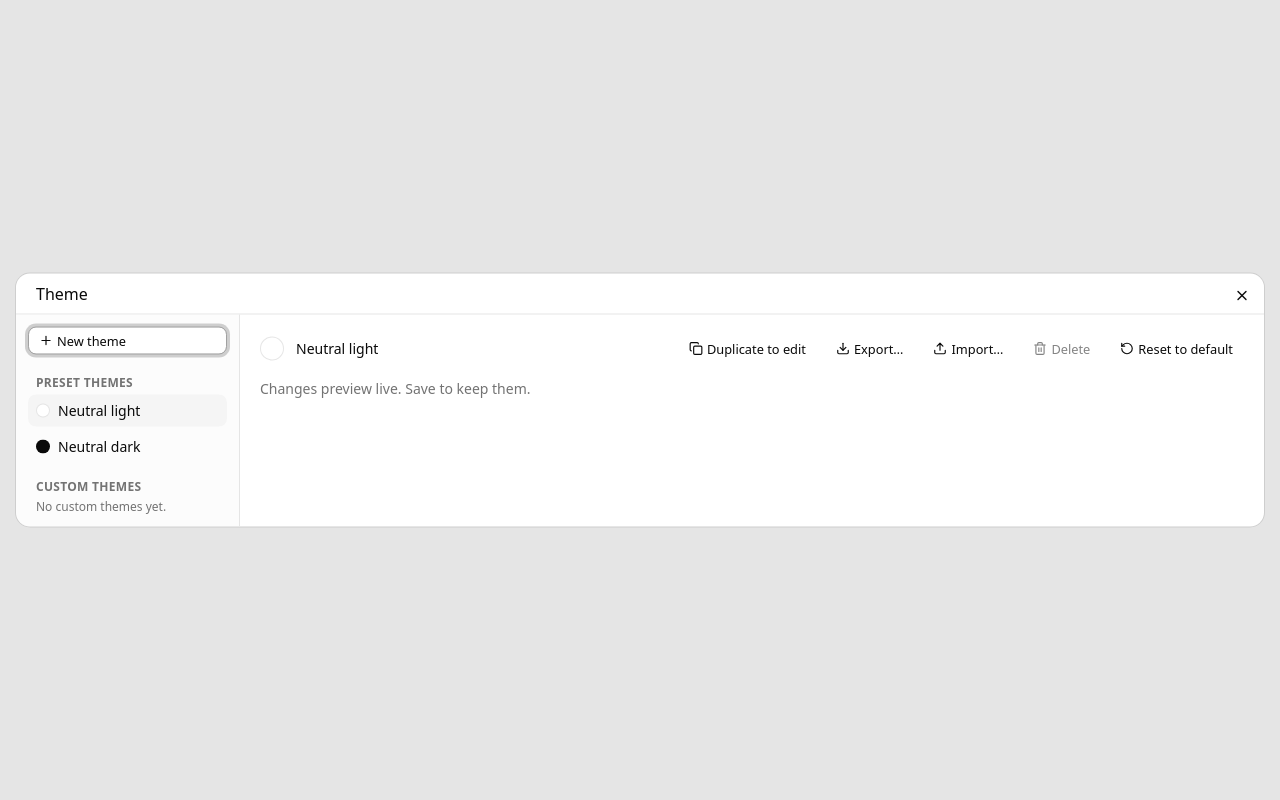
Test: AppearancePanel › ignores a pending create result after switching skins
Click the button "New theme". click: (128, 340)
box: top-left (28, 326), bottom-right (227, 354)
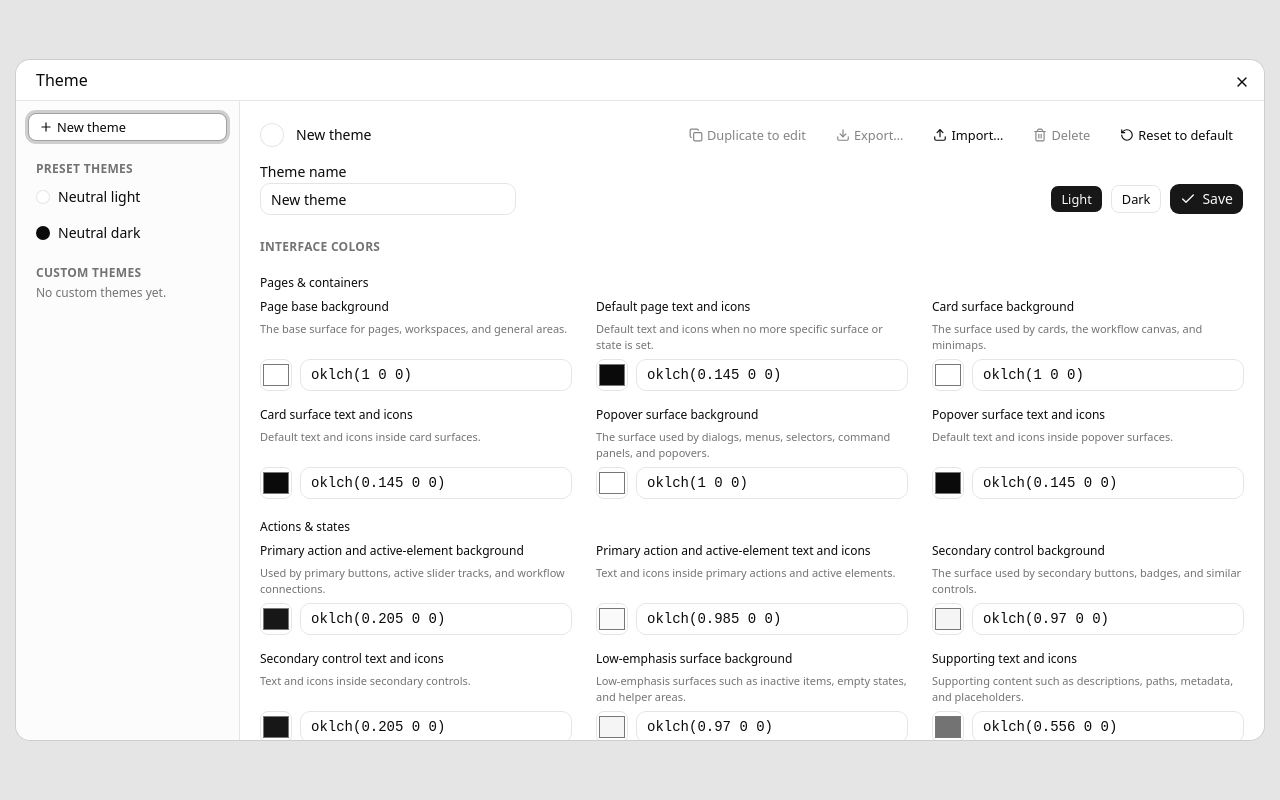
Click the button "Save". click: (1207, 199)
box: top-left (1169, 183), bottom-right (1244, 215)
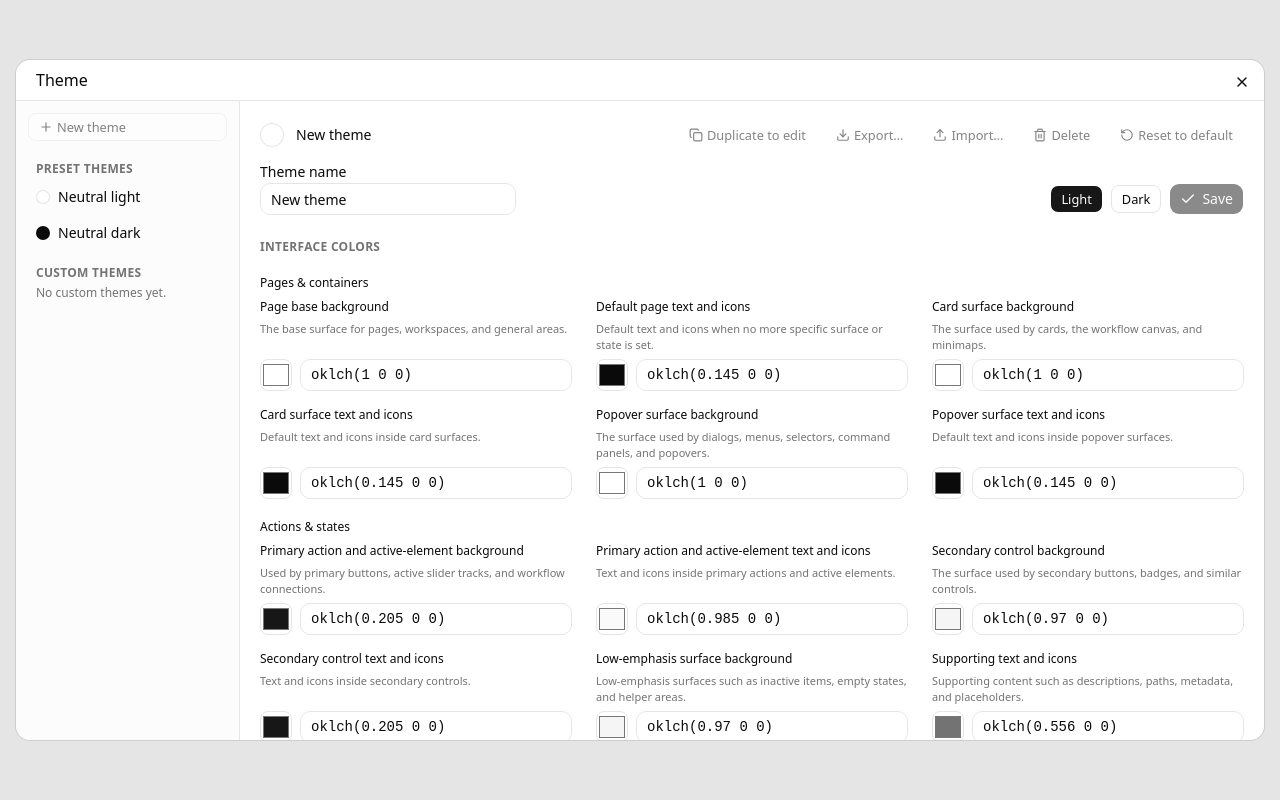
Click the button "Neutral dark". click: (128, 233)
box: top-left (28, 217), bottom-right (227, 249)
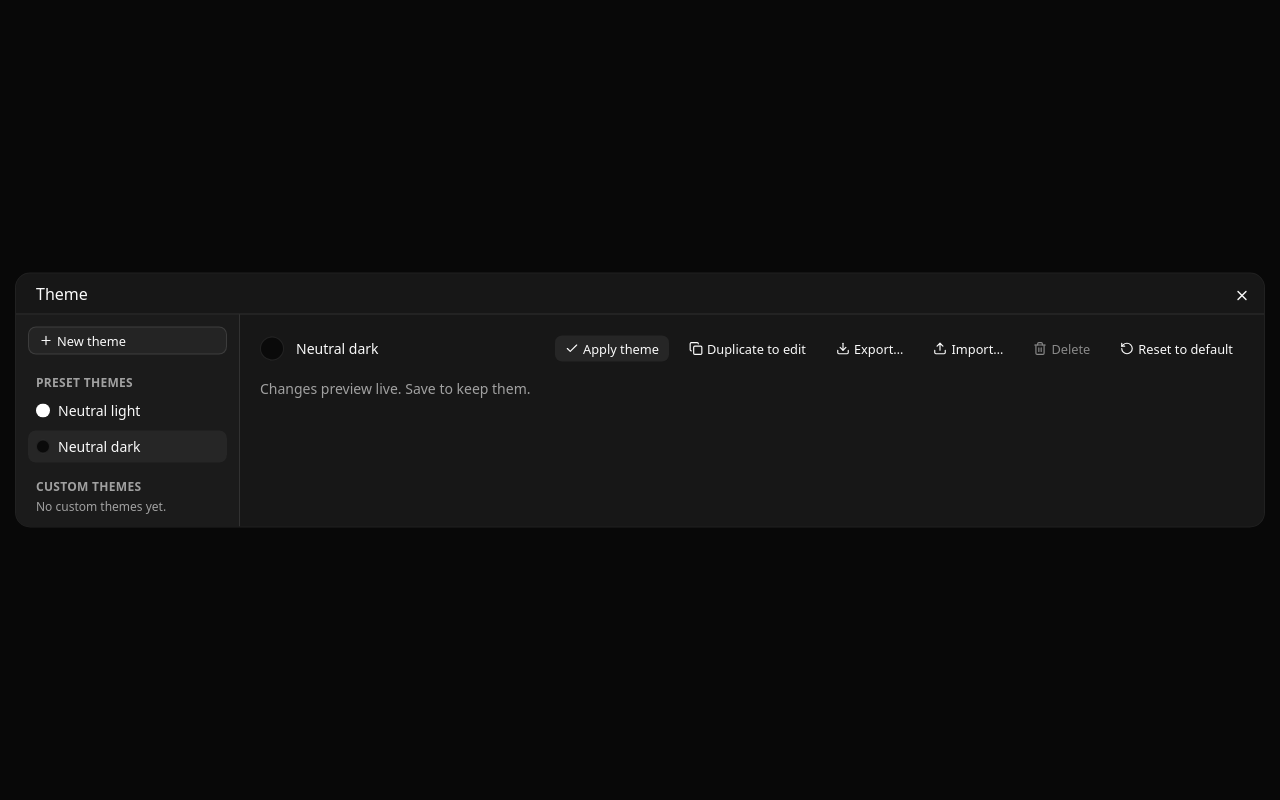
Check: the label labelled "Theme name" is gone
